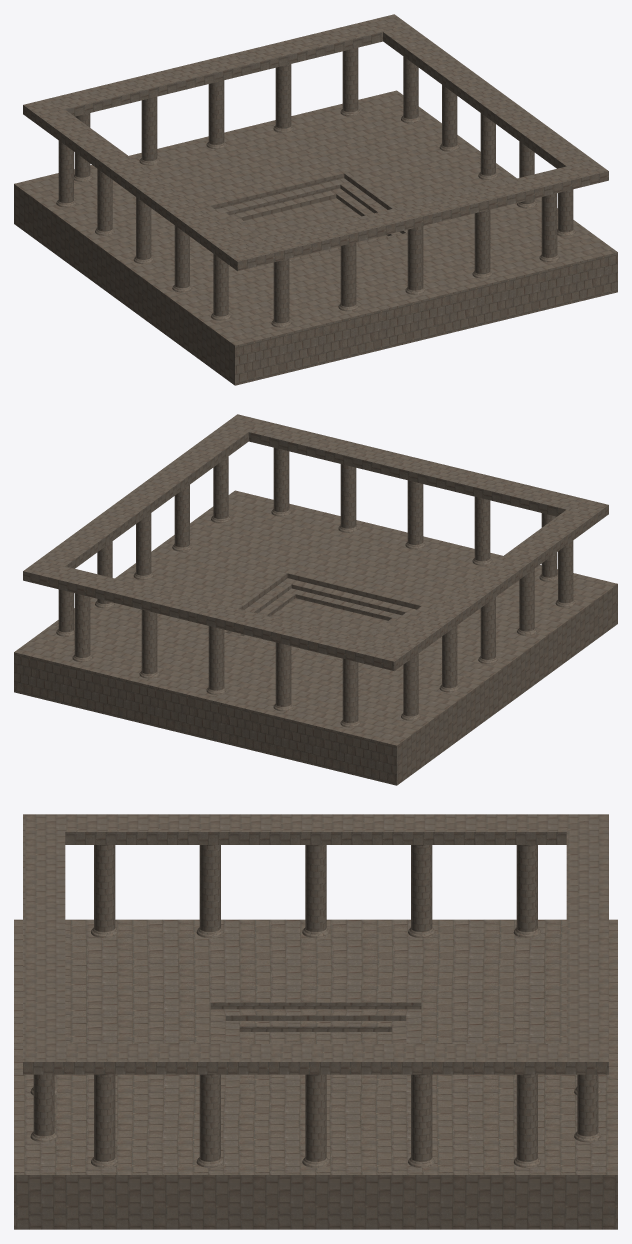
File: environment.glb
The picture shows the model from 3 angles, top to bottom: view 1: azimuth 30°, elevation 25°; view 2: azimuth 150°, elevation 25°; view 3: azimuth 270°, elevation 25°; orthographic projection. The views are drawn at different scales.
Parts seen in each view (by area): view 1: Plane, Cube.002, Cylinder; view 2: Plane, Cube.002, Cylinder; view 3: Plane, Cube.002, Cylinder.
Part boxes in pixels (x1,y1,x2,y2): Plane: (14,90,617,385); Cube.002: (23,14,608,271); Cylinder: (56,47,575,327); Plane: (14,490,617,785); Cube.002: (23,414,608,671); Cylinder: (56,447,575,727); Plane: (14,919,617,1229); Cube.002: (23,814,608,1074); Cylinder: (30,845,601,1167).
Bounding box in the file's own units: 20 × 5.99 × 20.
Materials: 1 (1 with a texture image).
